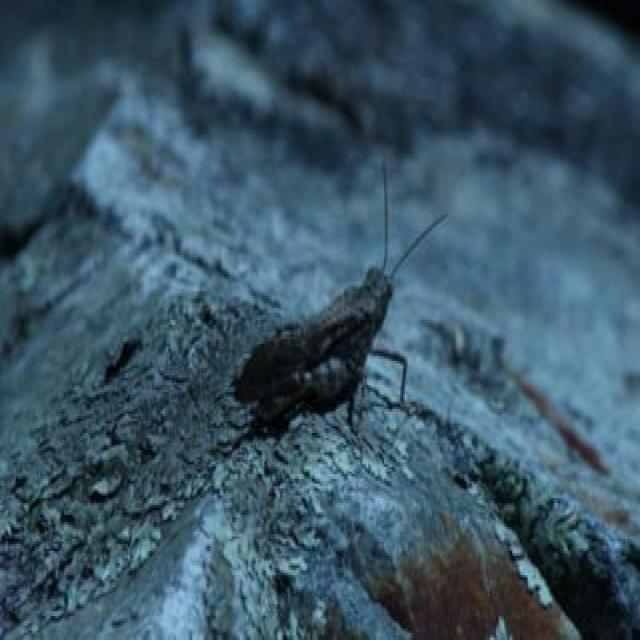antennae: (387, 213, 446, 283), (379, 164, 389, 273)
body: (267, 262, 394, 399)
insect: (233, 149, 450, 441)
legs: (368, 342, 411, 407), (340, 358, 359, 438)
wings: (237, 302, 336, 404)
